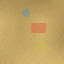person: (22, 8, 29, 17)
structure: (34, 35, 51, 51)
vehicle: (30, 23, 45, 33)
